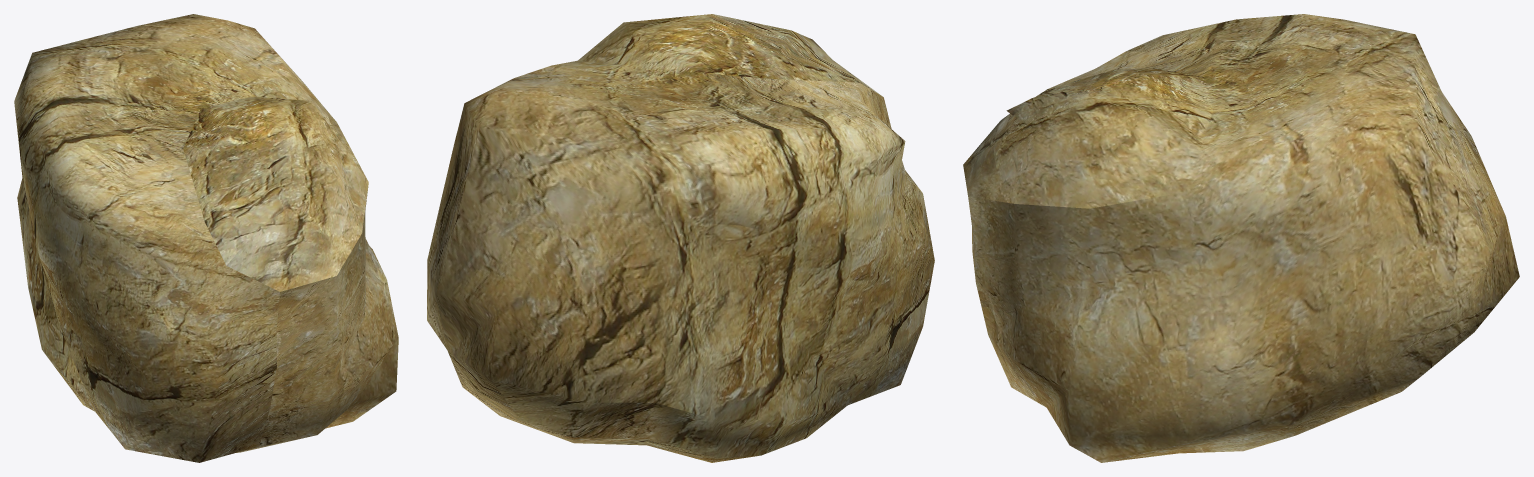
The model's file is Rock 1.FBX.
3 renders of one model, left to right at view 1: azimuth 30°, elevation 25°; view 2: azimuth 150°, elevation 25°; view 3: azimuth 270°, elevation 25°, orthographic. The views are drawn at different scales.
Visible parts, largest first — view 1: rock0; view 2: rock0; view 3: rock0.
Part boxes in pixels (<box>): rock0: <box>14,14,398,462</box>; rock0: <box>427,14,934,462</box>; rock0: <box>963,14,1519,462</box>.
Bounding box in the file's own units: 148 × 141 × 205.
1 material, 1 textured.
